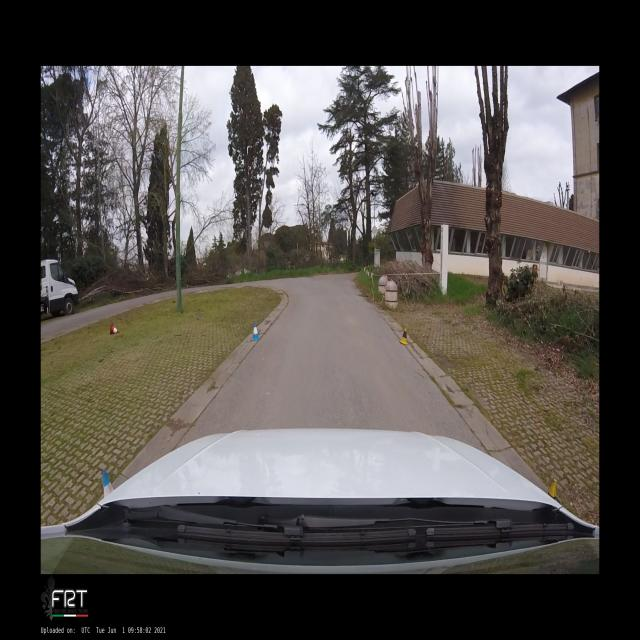blue_cone: (102, 470, 114, 498), (251, 324, 261, 341)
orange_cone: (110, 323, 120, 335)
yellow_cone: (548, 478, 557, 499), (399, 327, 409, 345)
